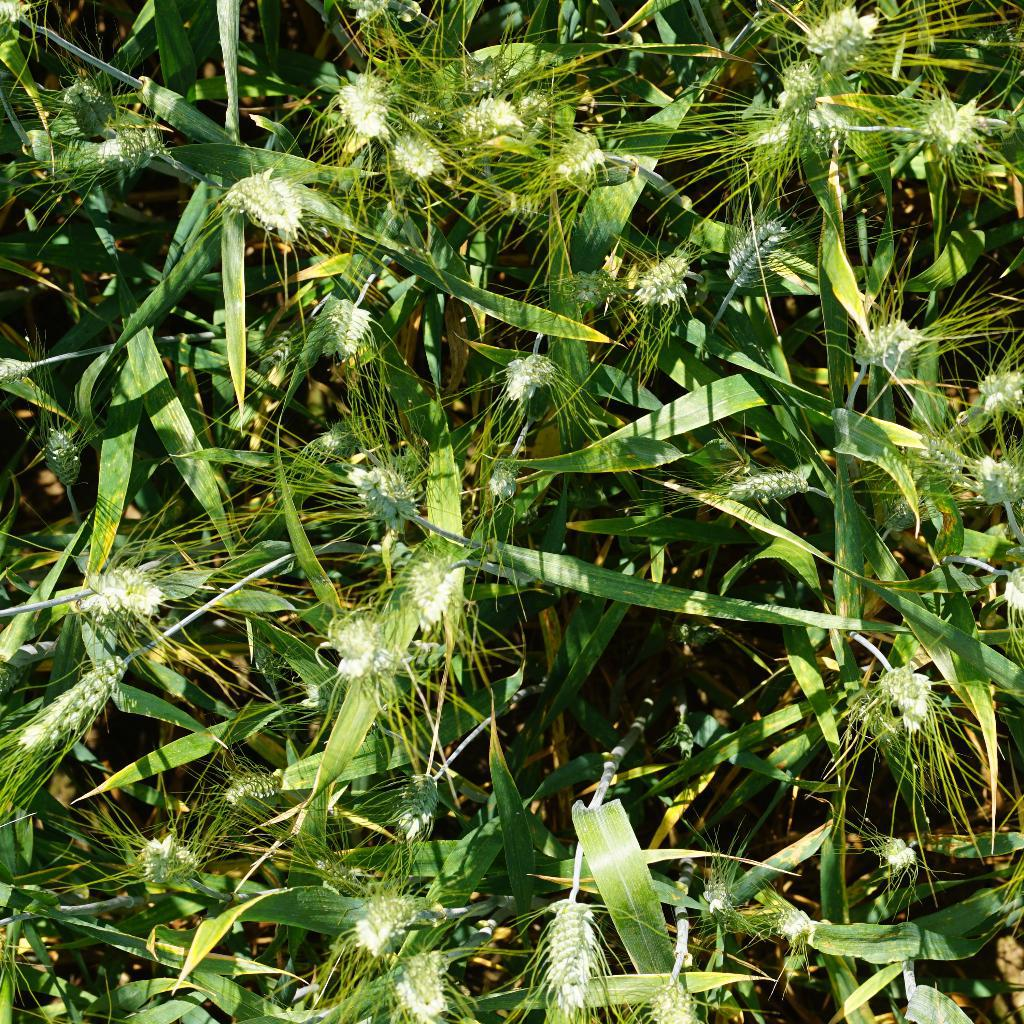0-0: (16, 657, 132, 766), (530, 875, 604, 1019), (712, 194, 800, 296), (204, 167, 310, 245), (374, 537, 466, 620), (310, 608, 404, 688), (335, 447, 423, 530), (77, 549, 172, 624), (918, 89, 1016, 159), (706, 448, 819, 508), (283, 665, 380, 733), (784, 0, 878, 70), (844, 302, 935, 374), (301, 838, 386, 914), (322, 64, 399, 145), (123, 822, 210, 893), (532, 121, 611, 199), (348, 884, 433, 956), (860, 657, 941, 732), (387, 941, 458, 1024), (387, 761, 452, 851), (619, 246, 699, 317), (755, 43, 828, 120), (653, 708, 707, 806), (451, 83, 530, 149), (497, 336, 560, 417), (307, 286, 373, 361), (53, 67, 116, 142), (260, 295, 316, 379), (860, 826, 937, 886), (30, 421, 92, 494), (638, 965, 714, 1024), (210, 759, 292, 813), (548, 253, 615, 318), (966, 447, 1024, 520), (387, 120, 448, 187), (439, 51, 511, 107), (965, 363, 1024, 428), (90, 126, 157, 180), (504, 75, 565, 134), (702, 860, 751, 933), (484, 458, 541, 519), (746, 110, 810, 164), (782, 112, 872, 149), (765, 903, 822, 960), (392, 93, 451, 142), (247, 630, 292, 687), (882, 488, 935, 536), (302, 418, 355, 466), (919, 430, 967, 483)
